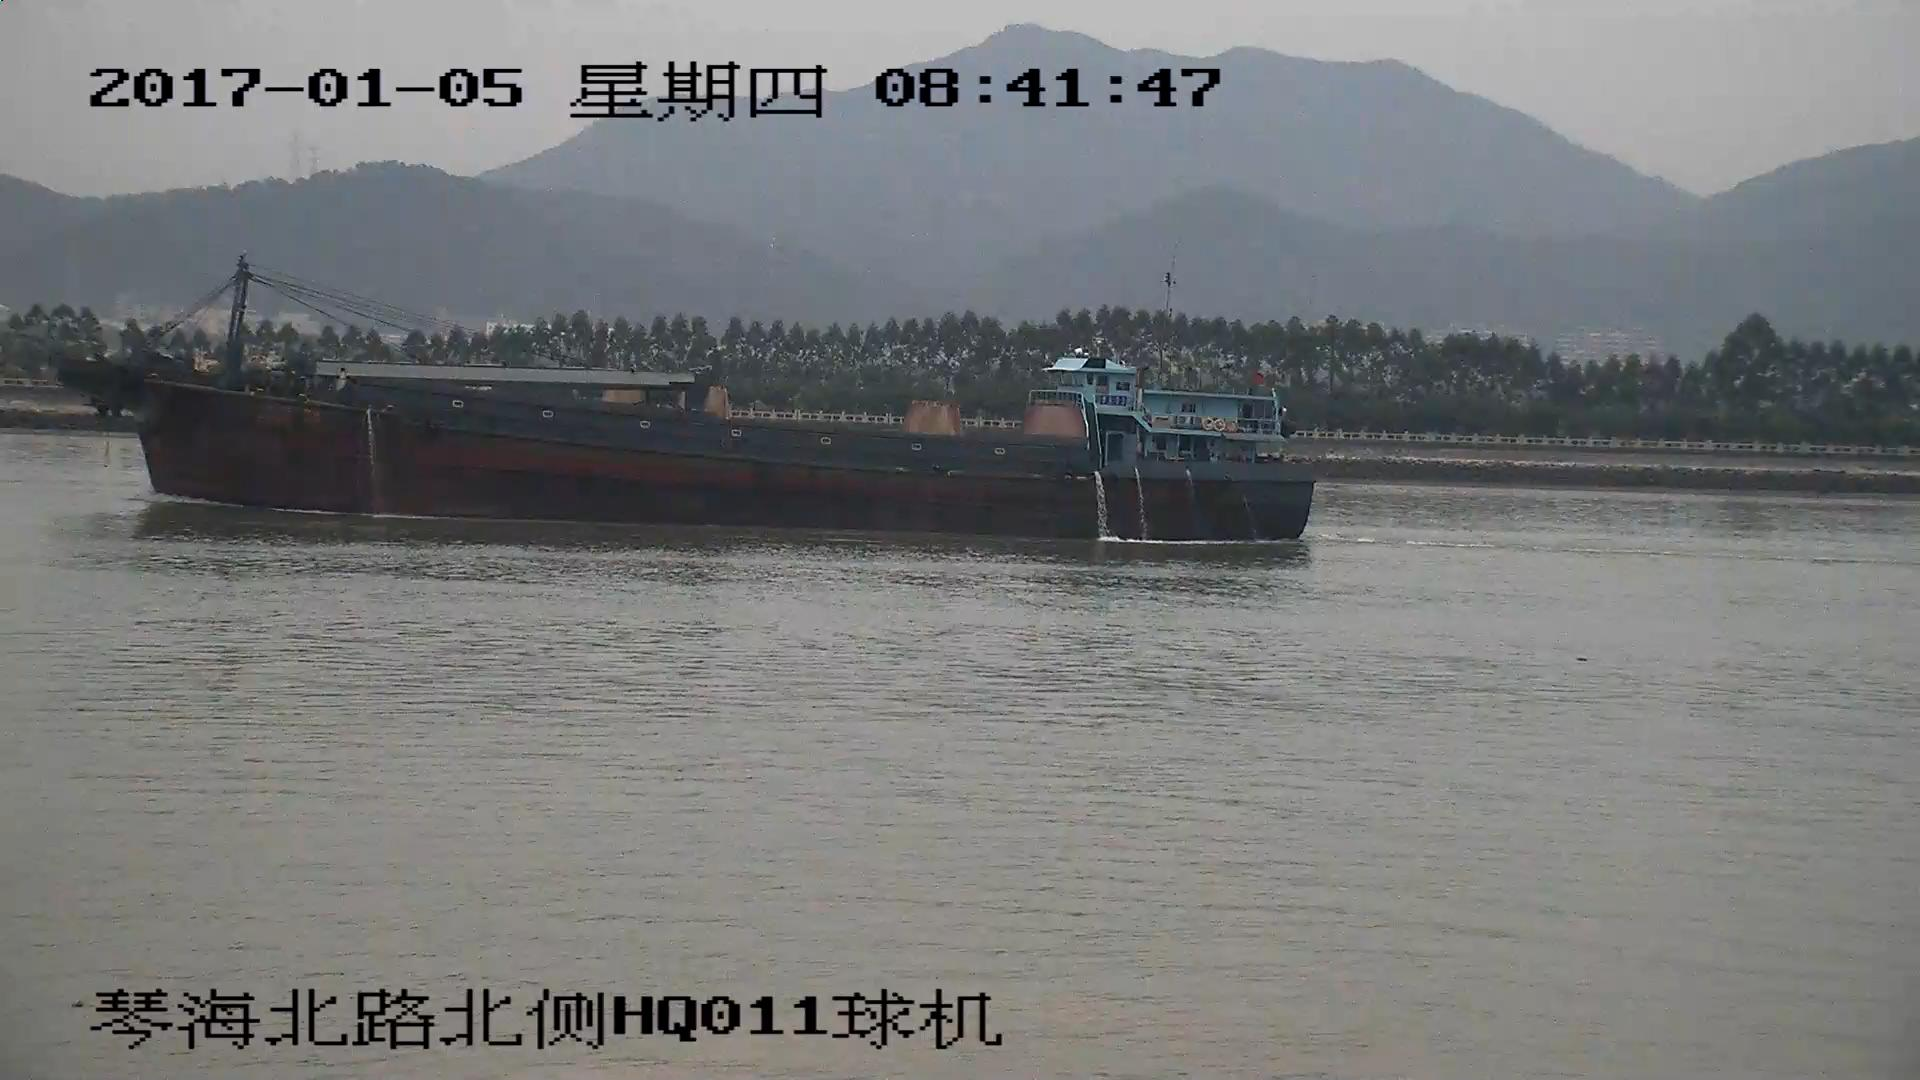bulk cargo carrier: (65, 263, 1313, 539)
